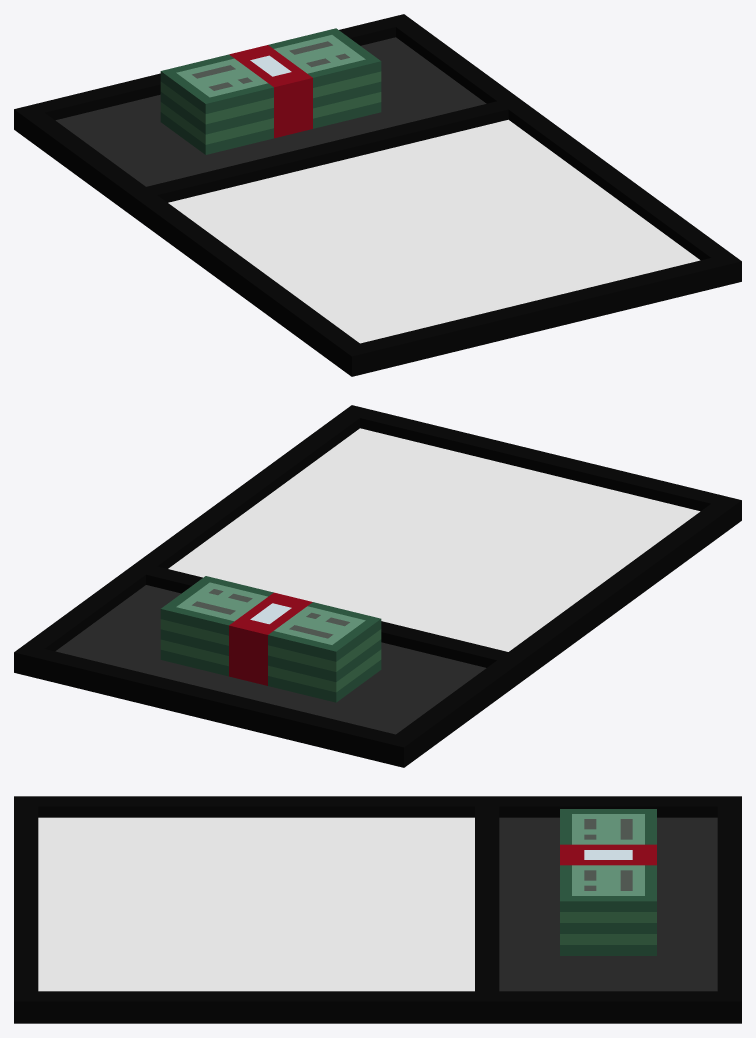
Rendered from tile17.obj.
3 views of the same model, one above another, from view 1: azimuth 30°, elevation 25°; view 2: azimuth 150°, elevation 25°; view 3: azimuth 270°, elevation 25° (orthographic). The views are drawn at different scales.
Bounding box in the file's own units: 4 × 0.6 × 6.
Materials: 1 (1 with a texture image).
